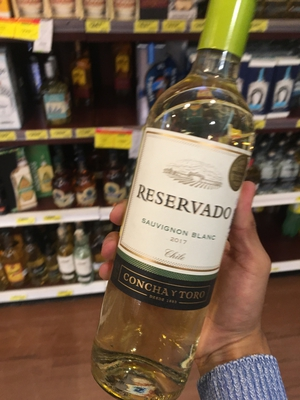reservado sauvignon blanc: (103, 12, 263, 381)
